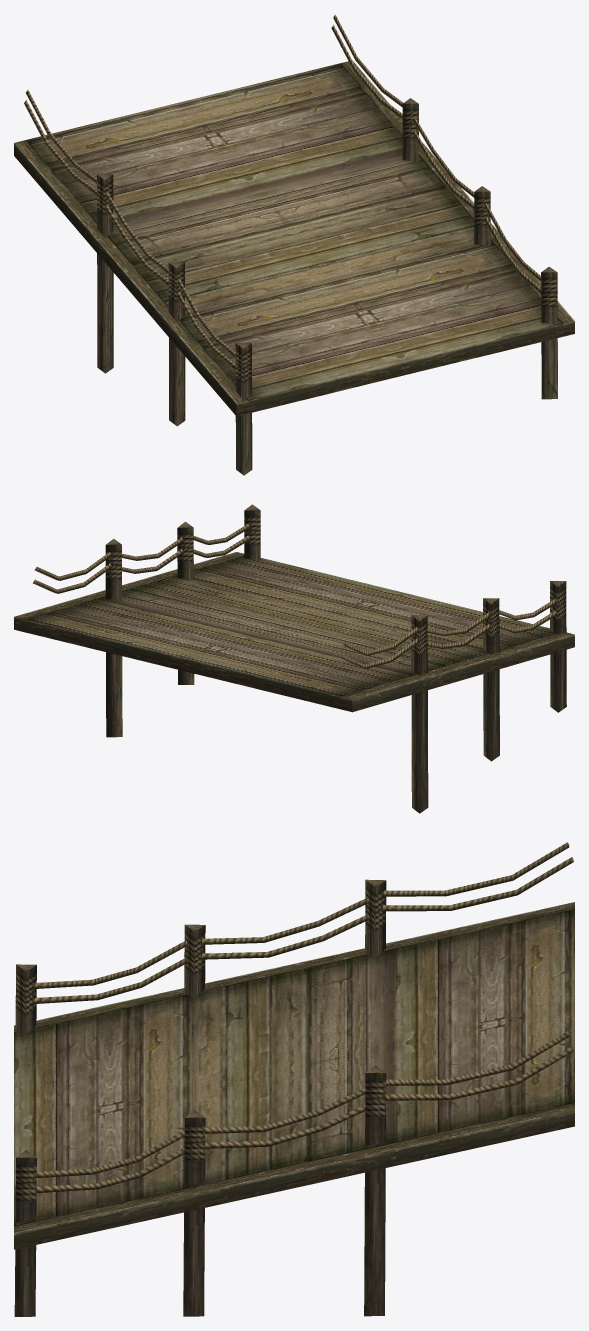
Rendered from matou_xy_41.FBX.
3 views of the same model, one above another, from view 1: azimuth 30°, elevation 25°; view 2: azimuth 150°, elevation 25°; view 3: azimuth 270°, elevation 25° (orthographic). The views are drawn at different scales.
Parts seen in each view (by area): view 1: matou_xy_41; view 2: matou_xy_41; view 3: matou_xy_41.
Part boxes in pixels (x1=…): matou_xy_41: x1=14, y1=14, x2=574, y2=475; matou_xy_41: x1=14, y1=504, x2=574, y2=813; matou_xy_41: x1=14, y1=842, x2=574, y2=1316.
Size of what is drawn, in the model's own units: 1145 by 728 by 1304.
